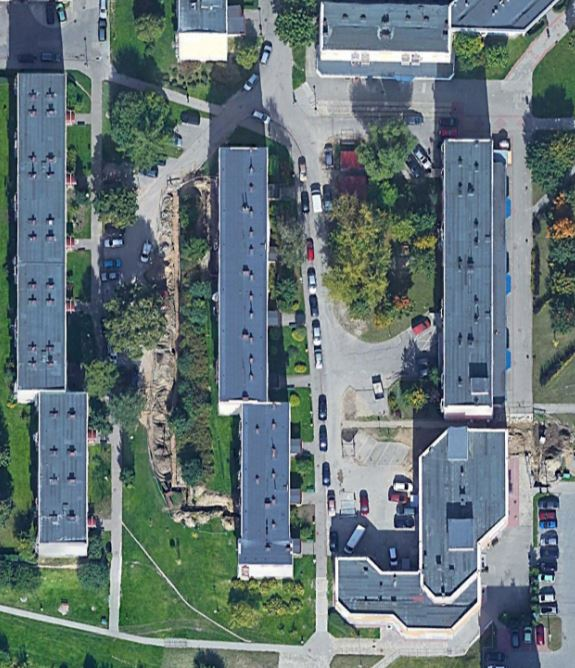block of flats: (203, 140, 315, 589), (3, 53, 93, 567), (325, 421, 525, 646), (419, 116, 503, 424), (307, 1, 561, 76), (161, 1, 261, 72)
